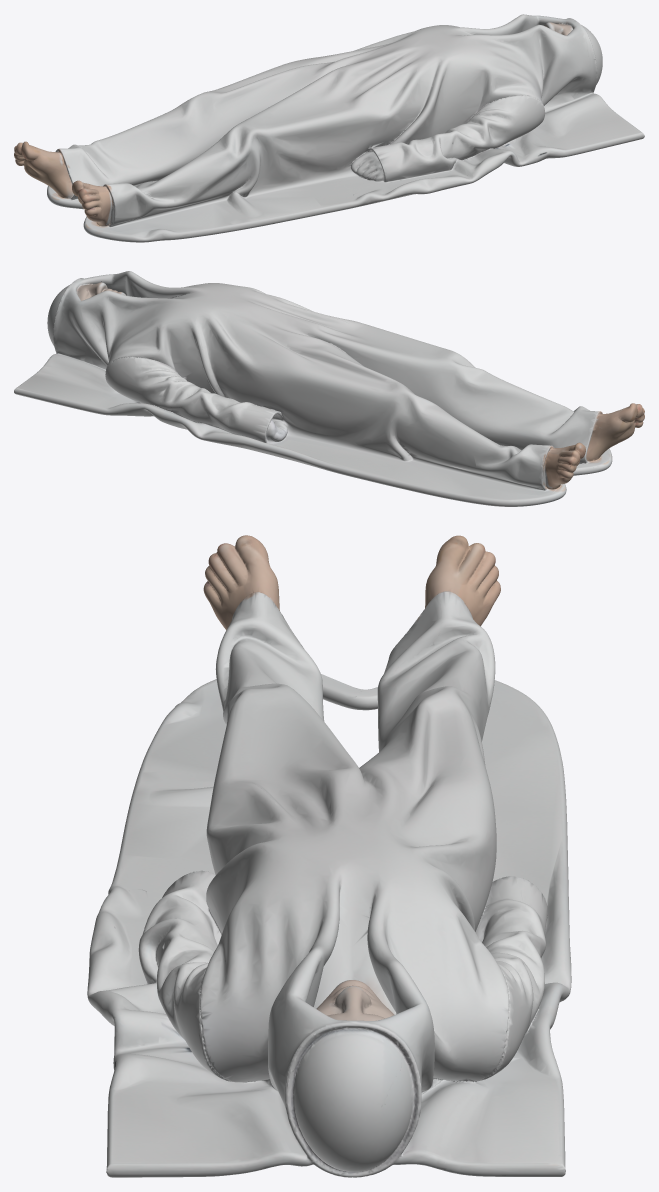
File: body1.glb
3 renders of one model, top to bottom at view 1: azimuth 30°, elevation 25°; view 2: azimuth 150°, elevation 25°; view 3: azimuth 270°, elevation 25°, orthographic. The views are drawn at different scales.
Visible parts, largest first — view 1: material.001; view 2: material.001; view 3: material.001.
Boxes of the visible parts, x1,y1,x2,y2 form: material.001: (14, 14, 644, 242); material.001: (14, 271, 644, 506); material.001: (87, 535, 571, 1177).
Size of the model in its own units: 1.17 by 0.19 by 0.4439.
Materials: 1 (1 with a texture image).
